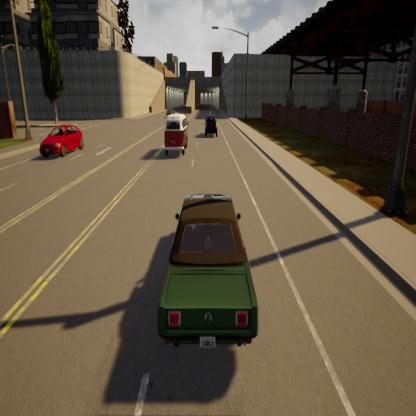Cars: (157, 191, 260, 359), (38, 122, 86, 158), (162, 110, 189, 160), (204, 112, 218, 138)
